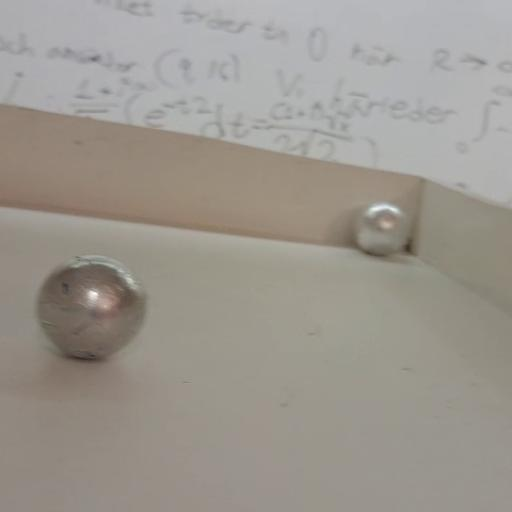alive: (36, 255, 148, 360), (354, 201, 410, 255)
